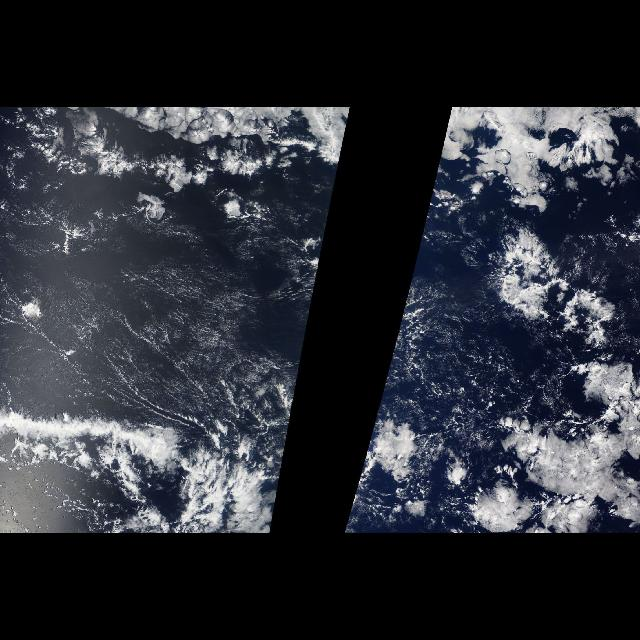Fish: (2, 392, 292, 534)
Flower: (440, 107, 640, 533), (38, 108, 352, 226), (424, 154, 442, 226)
Sugar: (10, 190, 296, 420)
